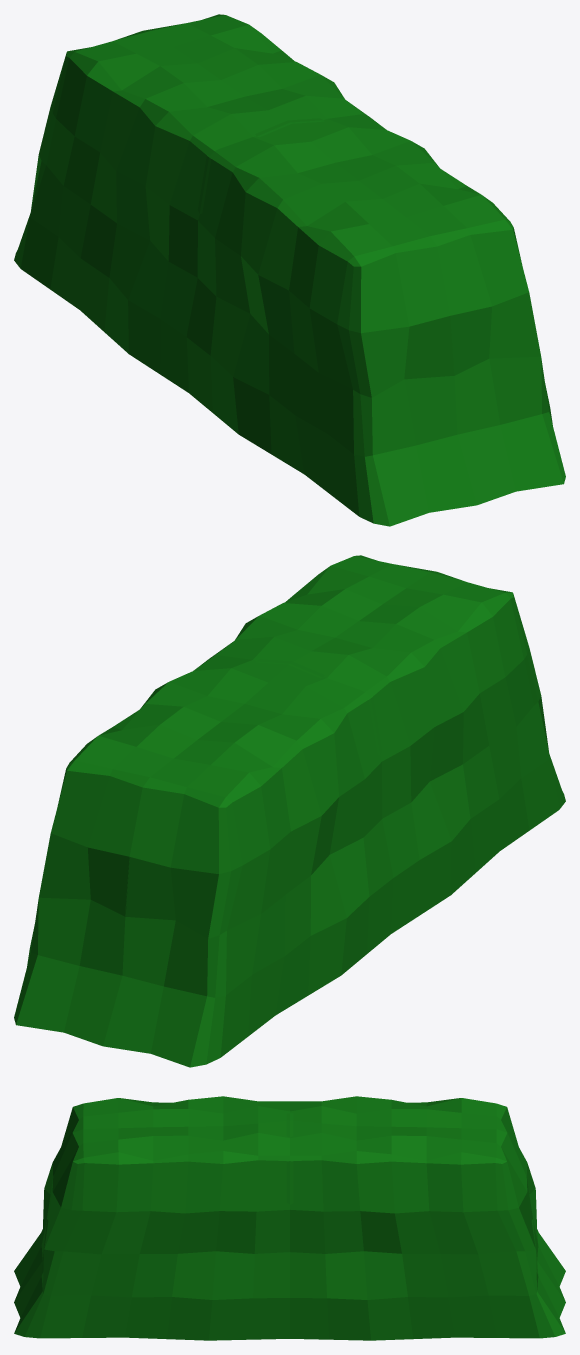
The model's file is Bush.fbx.
3 renders of one model, top to bottom at view 1: azimuth 30°, elevation 25°; view 2: azimuth 150°, elevation 25°; view 3: azimuth 270°, elevation 25°, orthographic. The views are drawn at different scales.
Parts seen in each view (by area): view 1: Cube; view 2: Cube; view 3: Cube.
Boxes of the visible parts, x1=… form: Cube: x1=14, y1=14, x2=565, y2=526; Cube: x1=14, y1=555, x2=565, y2=1067; Cube: x1=14, y1=1096, x2=565, y2=1340.
Size of the model in its own units: 132 by 143 by 390.
